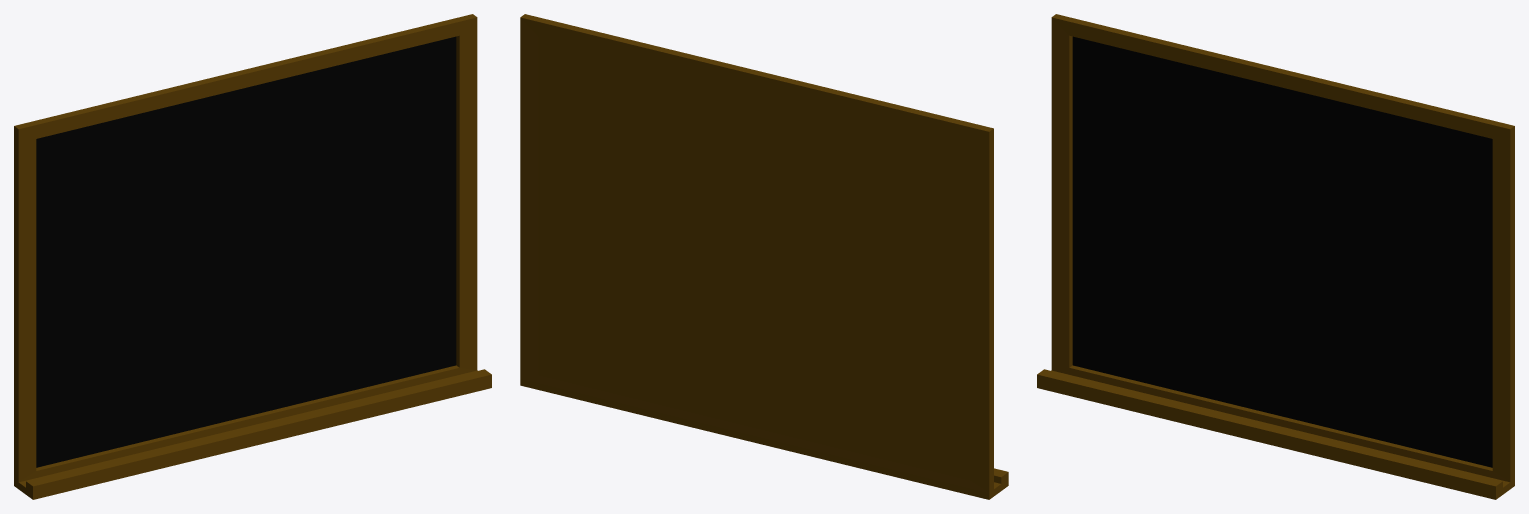
The model's file is blackBoard.fbx.
The picture shows the model from 3 angles, left to right: view 1: azimuth 30°, elevation 25°; view 2: azimuth 150°, elevation 25°; view 3: azimuth 330°, elevation 25°; orthographic projection. The views are drawn at different scales.
Visible parts, largest first — view 1: blackBoard; view 2: blackBoard; view 3: blackBoard.
Boxes of the visible parts, x1,y1,x2,y2 form: blackBoard: [14, 14, 491, 499]; blackBoard: [520, 14, 1008, 499]; blackBoard: [1037, 14, 1514, 499].
Size of the model in its own units: 325 by 244 by 23.4.
